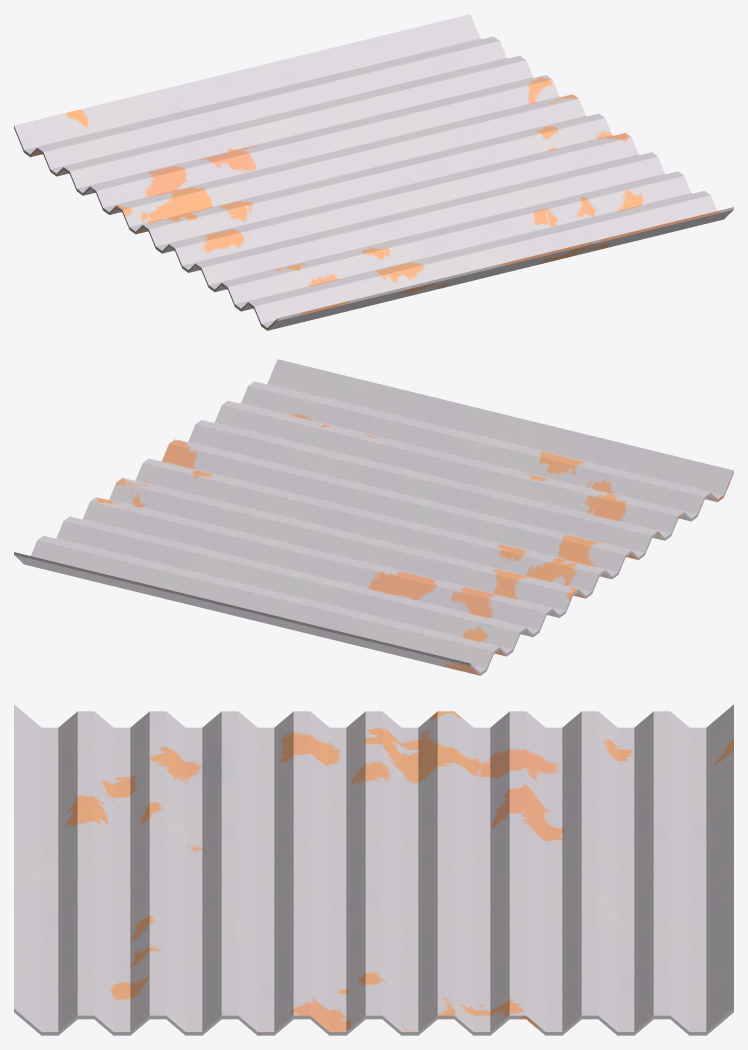
File: Corrugated_Metal.fbx
The picture shows the model from 3 angles, top to bottom: view 1: azimuth 30°, elevation 25°; view 2: azimuth 150°, elevation 25°; view 3: azimuth 270°, elevation 25°; orthographic projection. The views are drawn at different scales.
Parts seen in each view (by area): view 1: Corrugated_Metal; view 2: Corrugated_Metal; view 3: Corrugated_Metal.
Boxes of the visible parts, x1,y1,x2,y2 form: Corrugated_Metal: (14, 14, 733, 330); Corrugated_Metal: (14, 359, 733, 675); Corrugated_Metal: (14, 704, 733, 1035).
Bounding box in the file's own units: 200 × 8.32 × 200.
